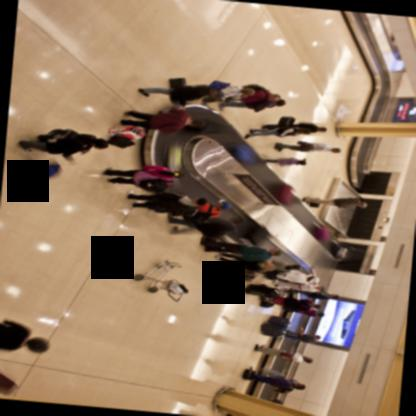backpack: (182, 205, 220, 224), (190, 223, 226, 239), (43, 128, 77, 143), (148, 202, 187, 214), (138, 179, 172, 192), (243, 85, 265, 92), (274, 387, 293, 394)
handbag: (108, 125, 145, 140), (132, 171, 170, 185), (276, 116, 314, 128), (237, 267, 257, 282), (108, 137, 134, 148), (208, 80, 235, 89), (264, 270, 289, 277), (279, 350, 292, 360)
suitcase: (19, 154, 73, 178), (241, 223, 272, 247), (187, 119, 229, 134), (257, 322, 298, 337), (271, 185, 295, 207), (244, 283, 279, 298), (266, 315, 300, 330), (232, 145, 254, 163), (312, 227, 332, 241), (333, 244, 351, 259), (168, 77, 186, 88)
